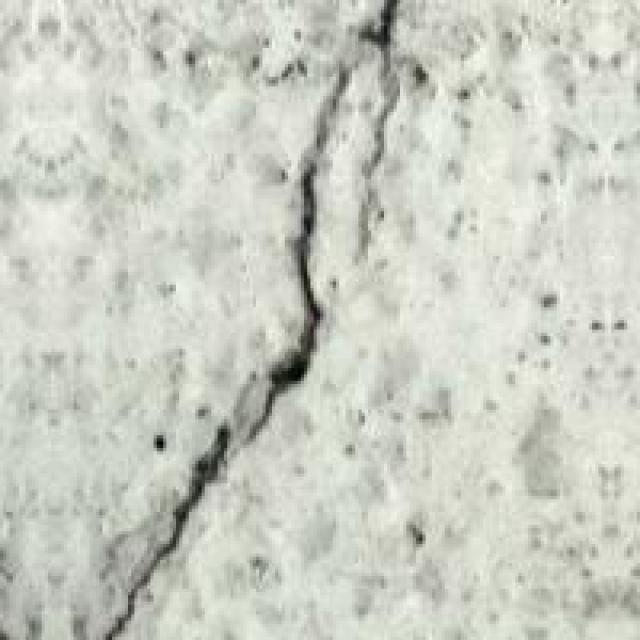crack: (83, 6, 451, 637)
